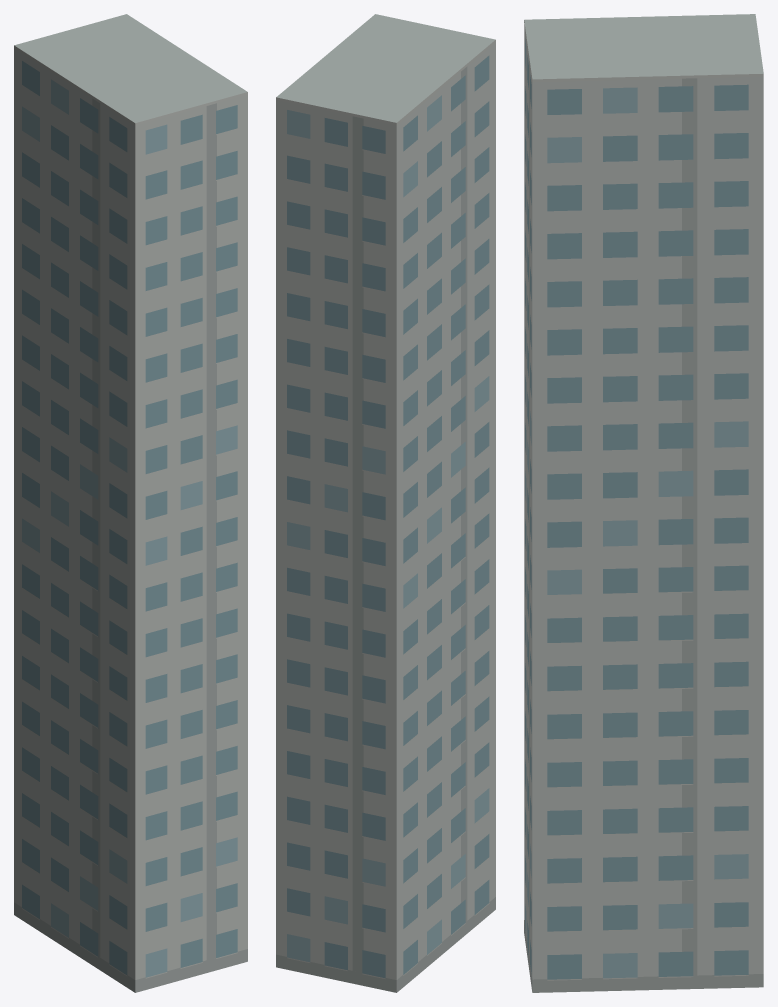
File: residential-9e39c0ce-e3f7-4ec4-b5fd-21225b95bdf5.glb
3 views of the same model, side by side, from view 1: azimuth 30°, elevation 25°; view 2: azimuth 150°, elevation 25°; view 3: azimuth 270°, elevation 25° (orthographic). The views are drawn at different scales.
Visible parts, largest first — view 1: residential-9e39c0ce-e3f7-4ec4-b5fd-21225b95bdf5.tmp; view 2: residential-9e39c0ce-e3f7-4ec4-b5fd-21225b95bdf5.tmp; view 3: residential-9e39c0ce-e3f7-4ec4-b5fd-21225b95bdf5.tmp.
Part boxes in pixels (x1,y1,x2,y2): residential-9e39c0ce-e3f7-4ec4-b5fd-21225b95bdf5.tmp: (14, 14, 247, 992); residential-9e39c0ce-e3f7-4ec4-b5fd-21225b95bdf5.tmp: (276, 14, 495, 992); residential-9e39c0ce-e3f7-4ec4-b5fd-21225b95bdf5.tmp: (524, 14, 763, 992).
Size of the model in its own units: 12.14 by 79 by 18.79.
